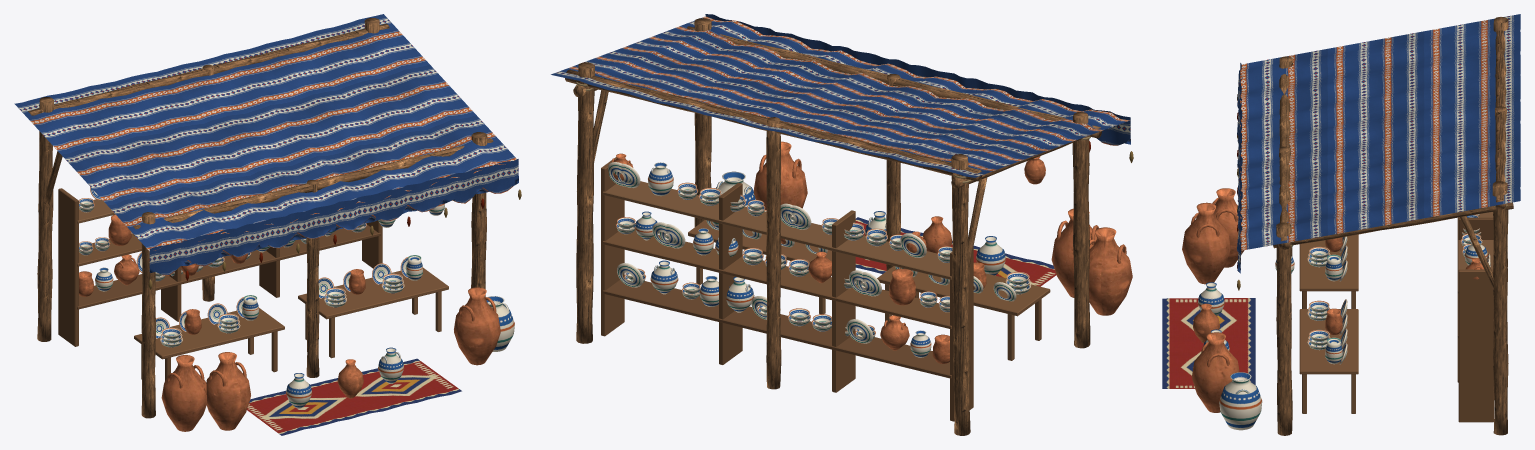
Rendered from village-kiosk-3.glb.
3 views of the same model, side by side, from view 1: azimuth 30°, elevation 25°; view 2: azimuth 150°, elevation 25°; view 3: azimuth 270°, elevation 25° (orthographic). The views are drawn at different scales.
Parts seen in each view (by area): view 1: K3_Cloth, K3_Wood, K3_Props; view 2: K3_Wood, K3_Cloth, K3_Props; view 3: K3_Cloth, K3_Wood, K3_Props.
Boxes of the visible parts, x1,y1,x2,y2 form: K3_Cloth: [14, 14, 518, 275]; K3_Wood: [28, 18, 493, 418]; K3_Props: [79, 187, 521, 435]; K3_Wood: [565, 18, 1101, 435]; K3_Cloth: [551, 14, 1130, 177]; K3_Props: [575, 81, 1133, 363]; K3_Cloth: [1236, 14, 1520, 273]; K3_Wood: [1273, 17, 1513, 435]; K3_Props: [1162, 94, 1507, 430].
Bounding box in the file's own units: 4.54 × 2.78 × 3.65.
Materials: 3 (3 with a texture image).
